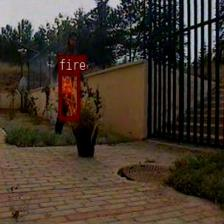fire: (58, 70, 80, 120)
